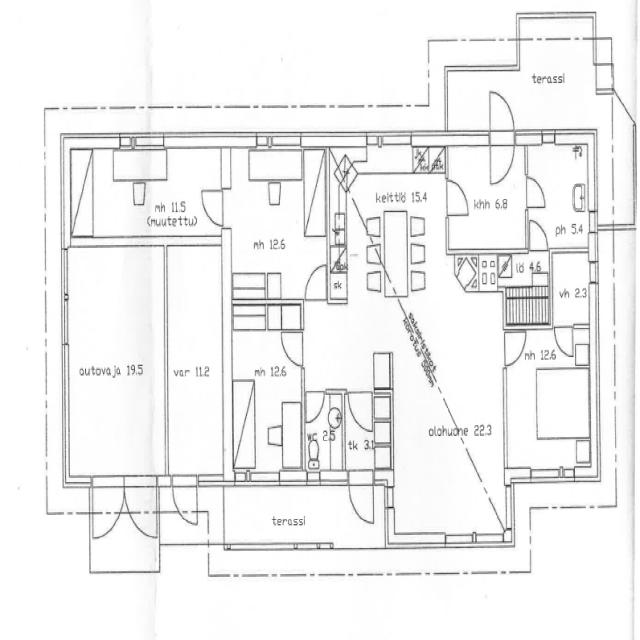door: (487, 84, 517, 187), (88, 482, 126, 539), (125, 481, 158, 540), (346, 468, 377, 530), (170, 472, 200, 531), (346, 385, 376, 436), (198, 183, 227, 229), (444, 174, 471, 218), (302, 260, 329, 304), (502, 326, 529, 368), (279, 327, 306, 367), (524, 172, 549, 210), (552, 321, 575, 360), (304, 388, 327, 424), (527, 217, 550, 252)
window: (528, 462, 571, 483), (372, 129, 413, 150), (442, 526, 478, 549), (243, 468, 282, 488), (587, 258, 600, 285)
zone: (328, 144, 445, 390), (64, 238, 163, 486), (225, 145, 329, 303), (70, 144, 225, 241), (165, 241, 224, 477), (505, 325, 592, 478), (231, 303, 303, 482), (446, 141, 530, 253), (525, 136, 595, 250), (500, 250, 550, 325), (306, 390, 344, 480), (550, 250, 593, 326)
